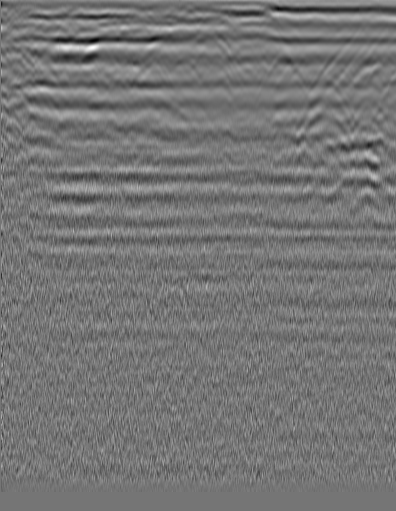우수: (347, 48, 381, 76)
